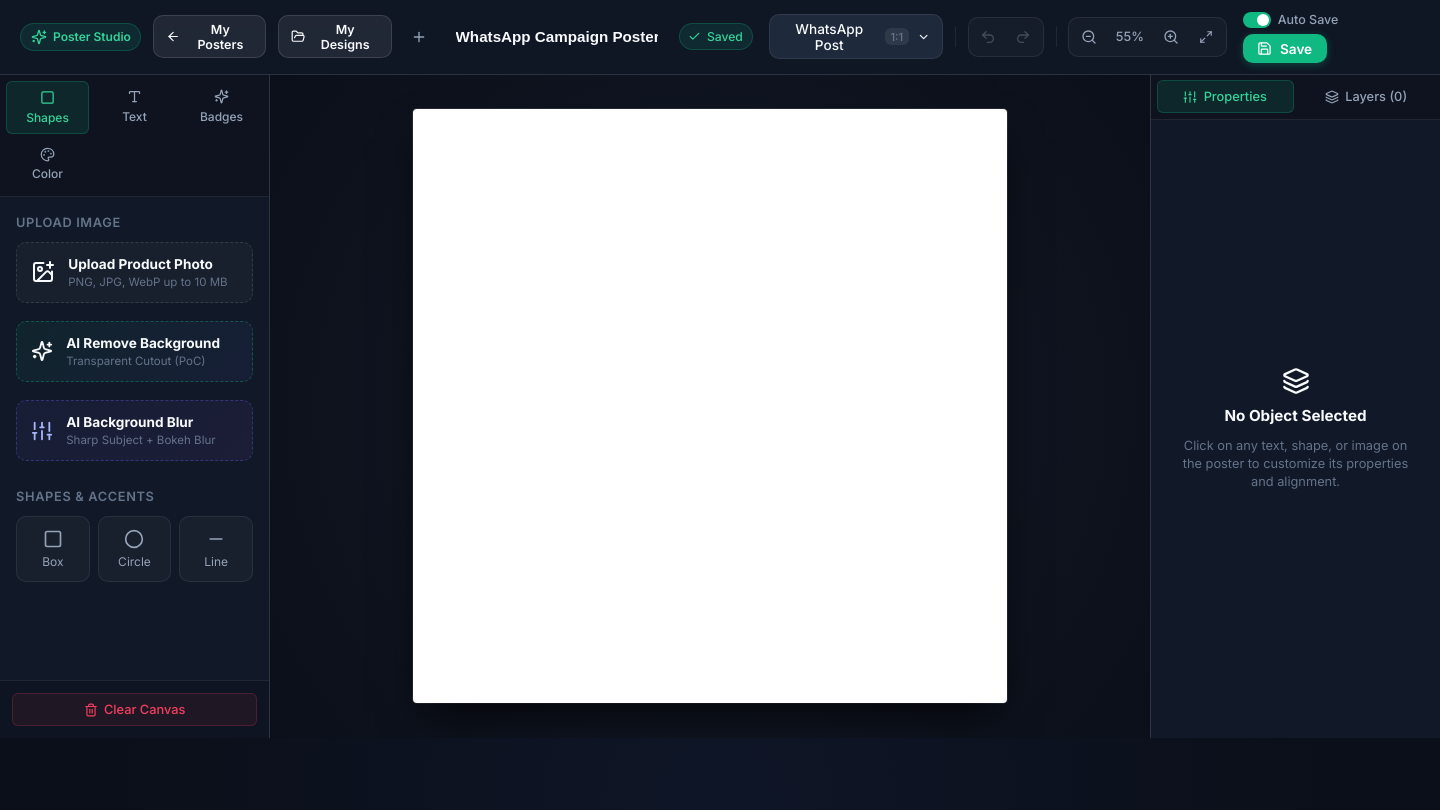
Test case: Phase 3C: User Isolation & Empty Initial State Tests › 7. prevents pending saves and timers from writing into another user's database
The image size is (1440, 810).
// User A makes a dirty change (schedules 1500ms auto-save timer)
Replace the text in the field named "Poster project title" with "User A Dirty Draft" at [556, 37], box [446, 23, 666, 50]
Wait 500 ms
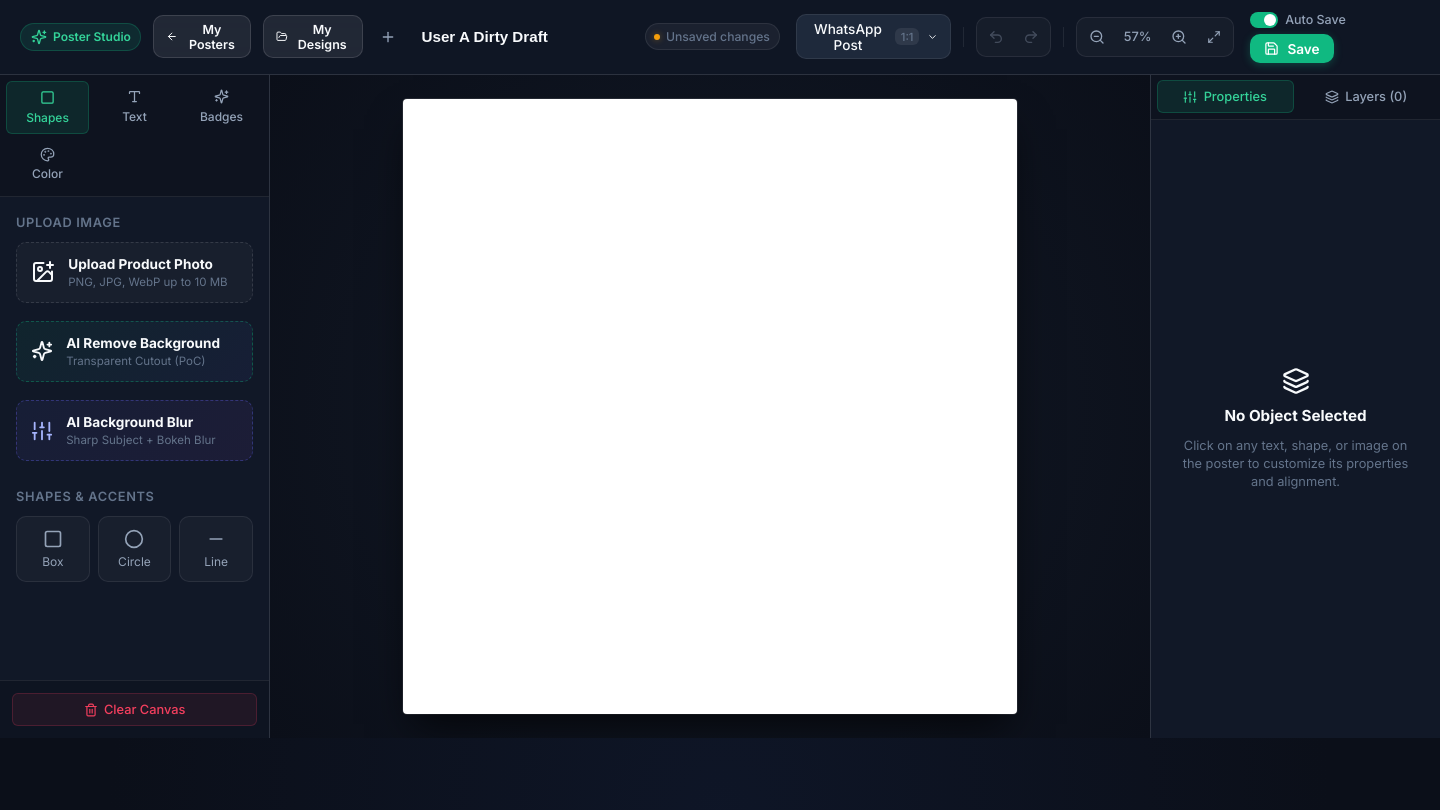
Expected: the text "Unsaved changes" is shown, [666, 28, 770, 46]
